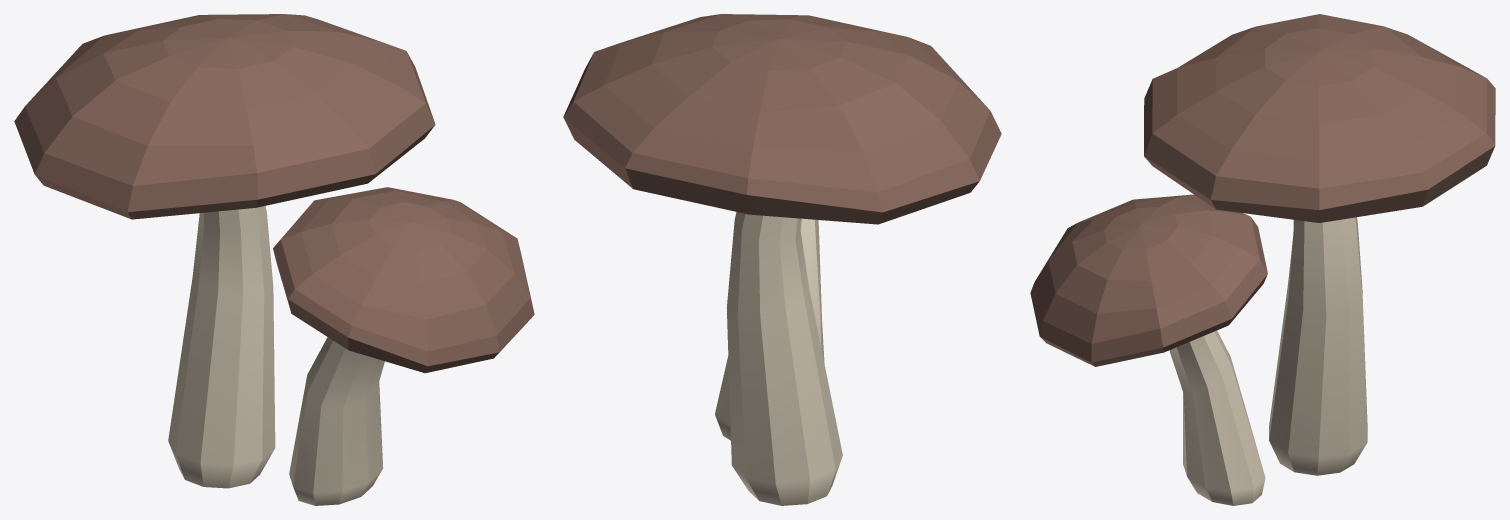
File: Mushrom2.fbx
3 views of the same model, side by side, from view 1: azimuth 30°, elevation 25°; view 2: azimuth 150°, elevation 25°; view 3: azimuth 270°, elevation 25° (orthographic). The views are drawn at different scales.
Parts seen in each view (by area): view 1: Mush2_Lid, Mush2_Stem; view 2: Mush2_Lid, Mush2_Stem; view 3: Mush2_Lid, Mush2_Stem.
Boxes of the visible parts, x1,y1,x2,y2 form: Mush2_Lid: (14, 14, 534, 373); Mush2_Stem: (168, 206, 384, 505); Mush2_Lid: (563, 14, 1001, 224); Mush2_Stem: (715, 212, 842, 505); Mush2_Lid: (1030, 14, 1495, 366); Mush2_Stem: (1169, 217, 1367, 505).
Size of the model in its own units: 1.75 by 1.79 by 1.83.
